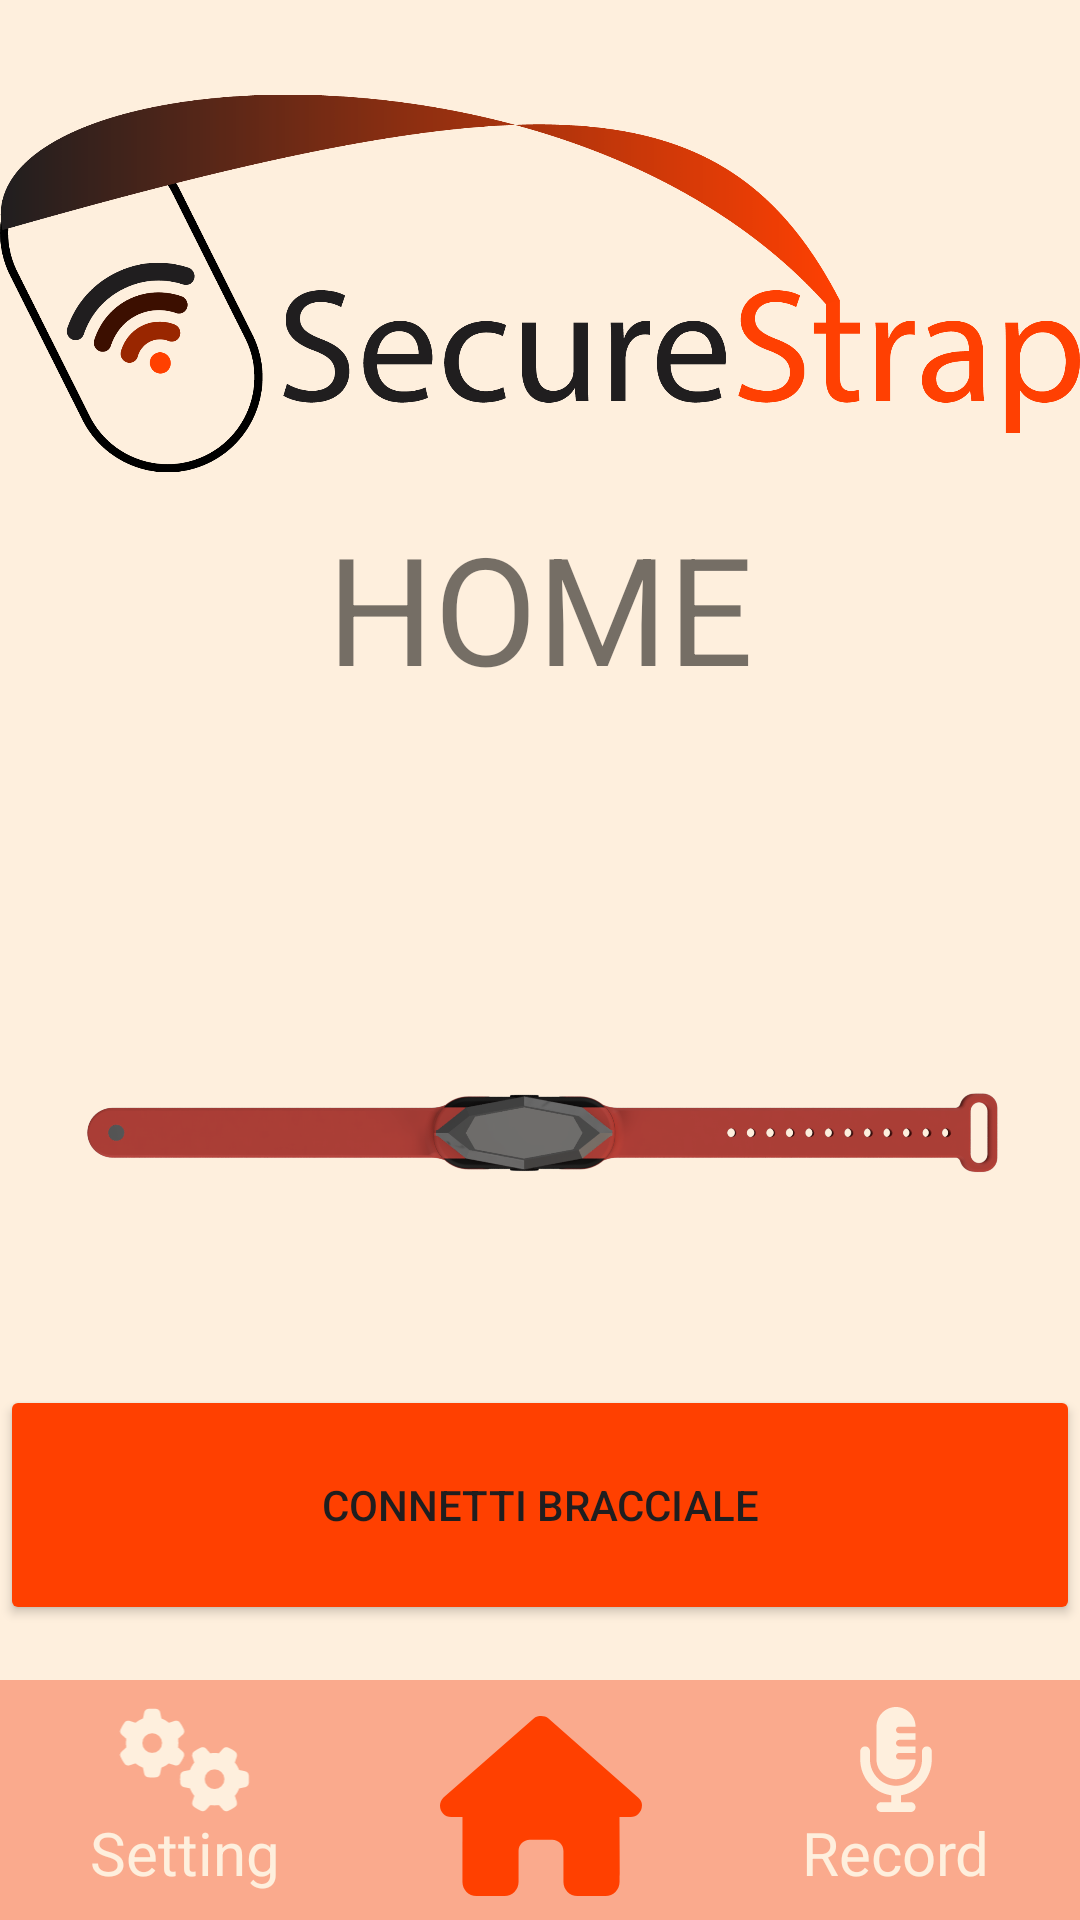

Locate icon controls on the screen. Image size 1080 × 1920, boxes as (x1, y1, x2, y2).
gears no: (120, 1709, 249, 1811)
hous yes: (440, 1716, 642, 1896)
microphone no: (860, 1707, 932, 1812)
